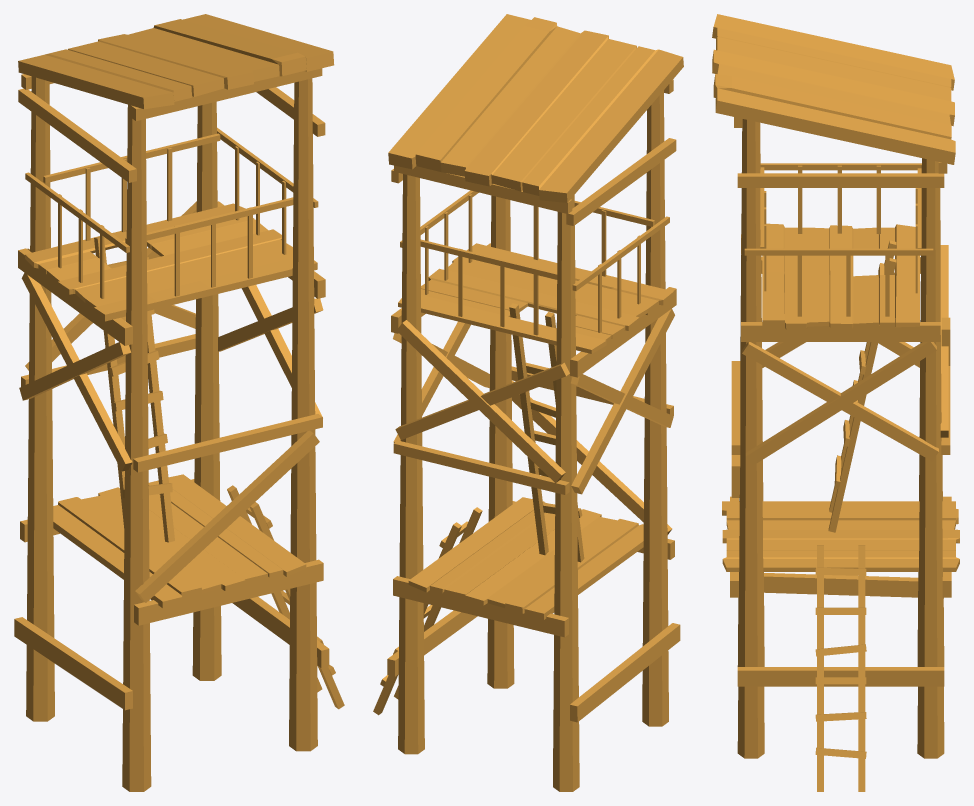
The model's file is tower-pirate-wood.fbx.
The picture shows the model from 3 angles, left to right: view 1: azimuth 30°, elevation 25°; view 2: azimuth 150°, elevation 25°; view 3: azimuth 270°, elevation 25°; orthographic projection. The views are drawn at different scales.
Parts seen in each view (by area): view 1: tower-pirate-wood; view 2: tower-pirate-wood; view 3: tower-pirate-wood.
Boxes of the visible parts, <box> form: tower-pirate-wood: <box>14,14,344,791</box>; tower-pirate-wood: <box>373,14,683,791</box>; tower-pirate-wood: <box>712,14,959,791</box>.
Size of the model in its own units: 4.19 by 10.65 by 3.59.
